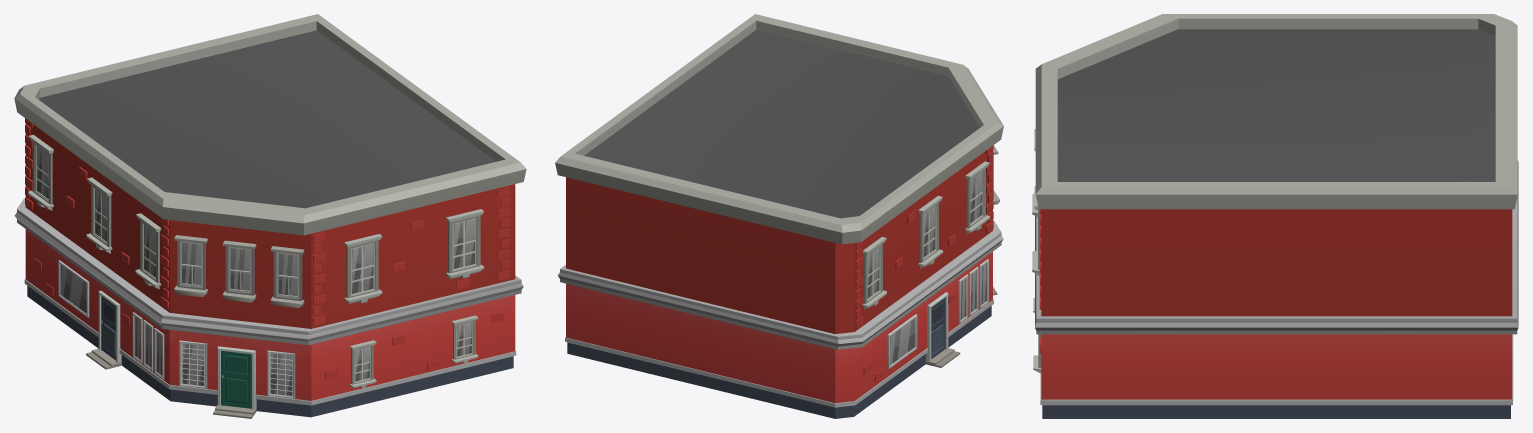
File: Building_25_4_A.glb
The picture shows the model from 3 angles, left to right: view 1: azimuth 30°, elevation 25°; view 2: azimuth 150°, elevation 25°; view 3: azimuth 270°, elevation 25°; orthographic projection. The views are drawn at different scales.
Visible parts, largest first — view 1: Building_25_4_A; view 2: Building_25_4_A; view 3: Building_25_4_A.
Part boxes in pixels (box(x1,y1,x2,y2)): Building_25_4_A: box(14, 14, 526, 418); Building_25_4_A: box(555, 14, 1003, 418); Building_25_4_A: box(1032, 14, 1518, 418).
Bounding box in the file's own units: 12.91 × 7.93 × 14.79.
Materials: 3 (3 with a texture image).
